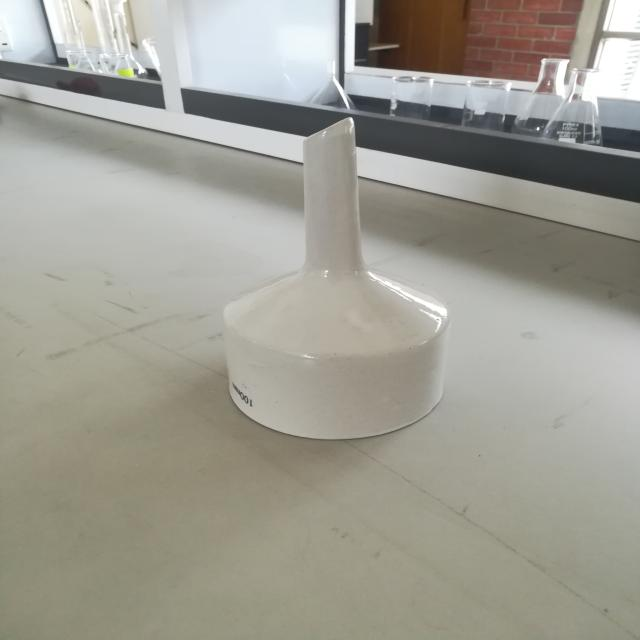Buchner_Funnel: (183, 65, 483, 476)
